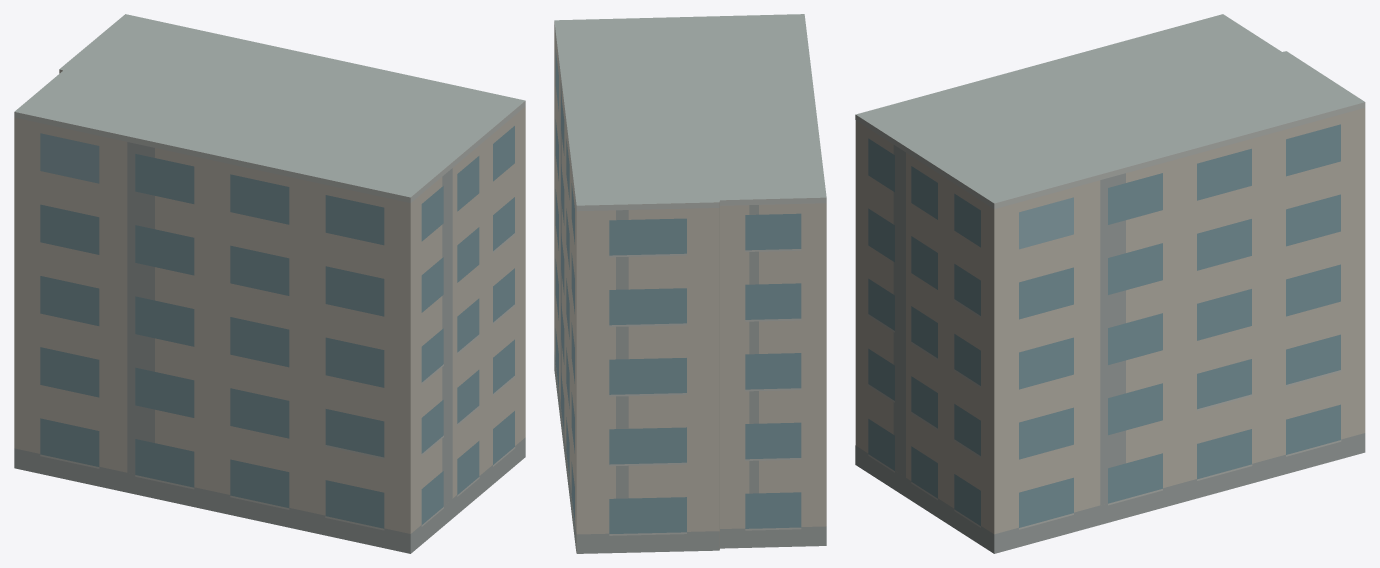
The model's file is survey-upis-32683185.glb.
3 views of the same model, side by side, from view 1: azimuth 30°, elevation 25°; view 2: azimuth 150°, elevation 25°; view 3: azimuth 270°, elevation 25° (orthographic). The views are drawn at different scales.
Visible parts, largest first — view 1: survey-upis-32683185.tmp; view 2: survey-upis-32683185.tmp; view 3: survey-upis-32683185.tmp.
Part boxes in pixels (x1,y1,x2,y2): survey-upis-32683185.tmp: (14, 14, 525, 553); survey-upis-32683185.tmp: (554, 14, 826, 553); survey-upis-32683185.tmp: (855, 14, 1365, 553).
Size of the model in its own units: 17.7 by 15.25 by 20.12.
